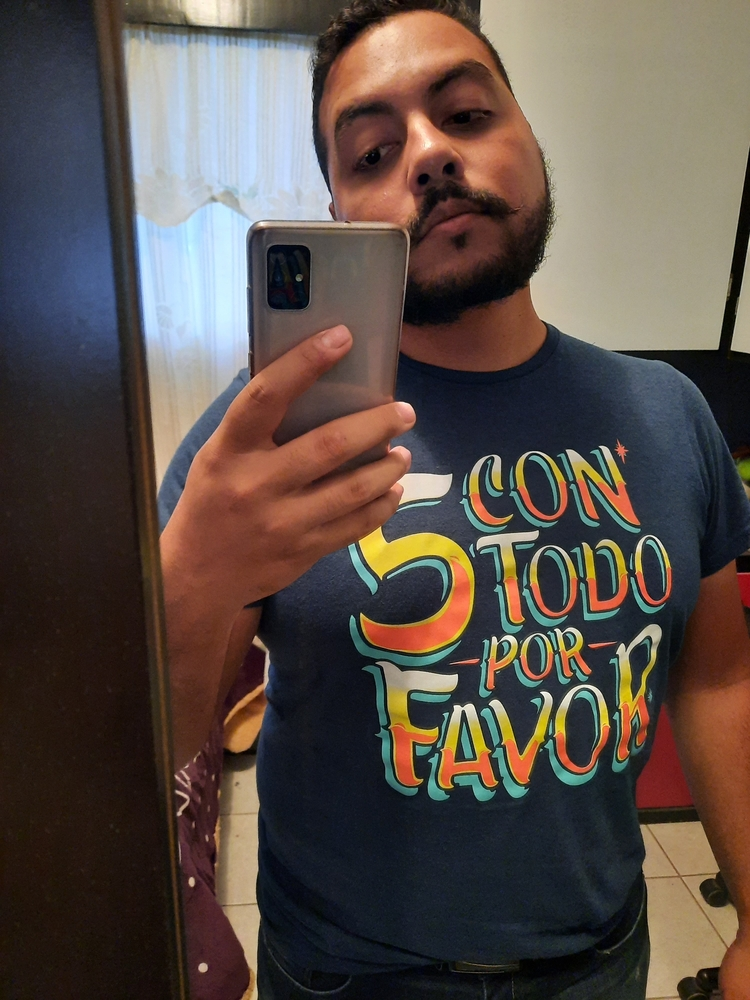Yoshi: (305, 6, 574, 334)
